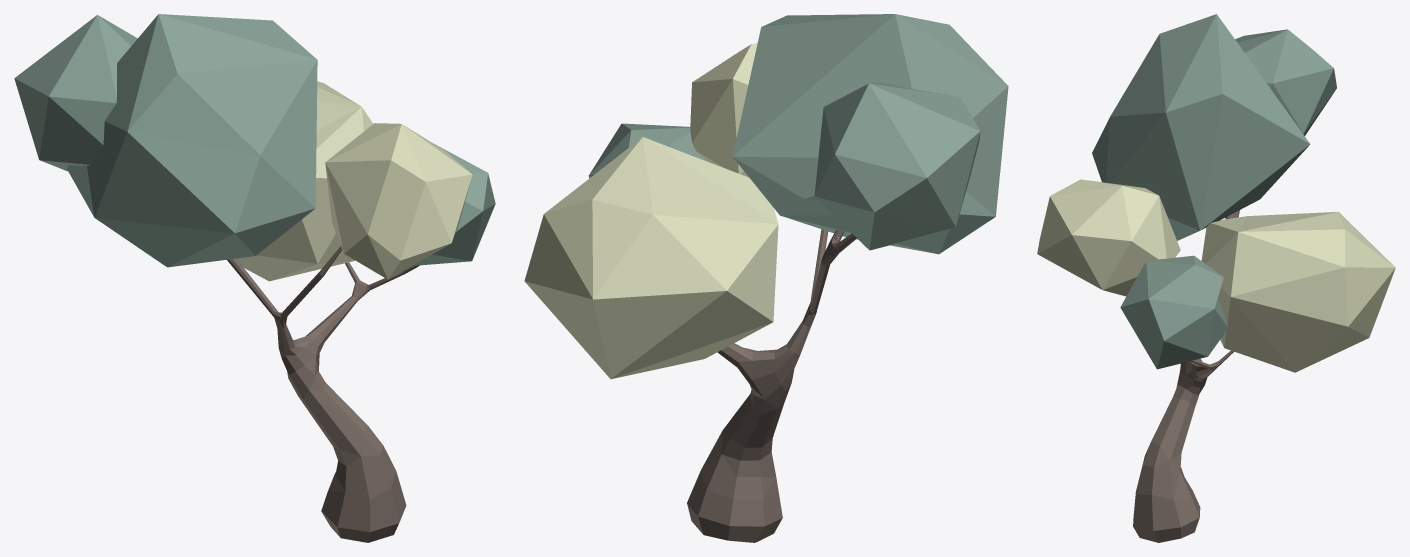
Rendered from low poly tree V3.fbx.
3 renders of one model, left to right at view 1: azimuth 30°, elevation 25°; view 2: azimuth 150°, elevation 25°; view 3: azimuth 270°, elevation 25°, orthographic. The views are drawn at different scales.
Visible parts, largest first — view 1: Leaves 11.005, Leaves 5.001, Tree stump, Leaves 1.004, Leaves 10.002, Leaves 1.005; view 2: Leaves 10.002, Leaves 11.005, Leaves 1.004, Tree stump, Leaves 5.001, Leaves 1.005; view 3: Leaves 11.005, Leaves 10.002, Leaves 5.001, Leaves 1.005, Tree stump, Leaves 1.004.
Part boxes in pixels (x1,y1,x2,y2): Leaves 11.005: (67, 14, 317, 267); Leaves 5.001: (325, 123, 472, 279); Tree stump: (227, 246, 419, 542); Leaves 1.004: (14, 15, 137, 171); Leaves 10.002: (236, 81, 373, 281); Leaves 1.005: (413, 144, 495, 265); Leaves 10.002: (524, 137, 778, 379); Leaves 11.005: (732, 14, 1008, 254); Leaves 1.004: (814, 82, 980, 250); Tree stump: (687, 229, 856, 542); Leaves 5.001: (690, 43, 757, 177); Leaves 1.005: (588, 123, 706, 178); Leaves 11.005: (1092, 14, 1310, 240); Leaves 10.002: (1201, 211, 1395, 372); Leaves 5.001: (1037, 179, 1180, 296); Leaves 1.005: (1120, 255, 1228, 369); Tree stump: (1133, 210, 1239, 542); Leaves 1.004: (1235, 29, 1336, 135).
Size of the model in its own units: 603 by 778 by 561.
